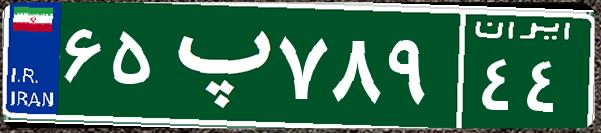4: (475, 38, 525, 113), (525, 38, 570, 115)
5: (110, 28, 158, 105)
6: (57, 26, 110, 107)
7: (273, 28, 330, 110)
8: (330, 28, 385, 110)
9: (385, 28, 445, 110)
پ: (158, 15, 273, 115)
